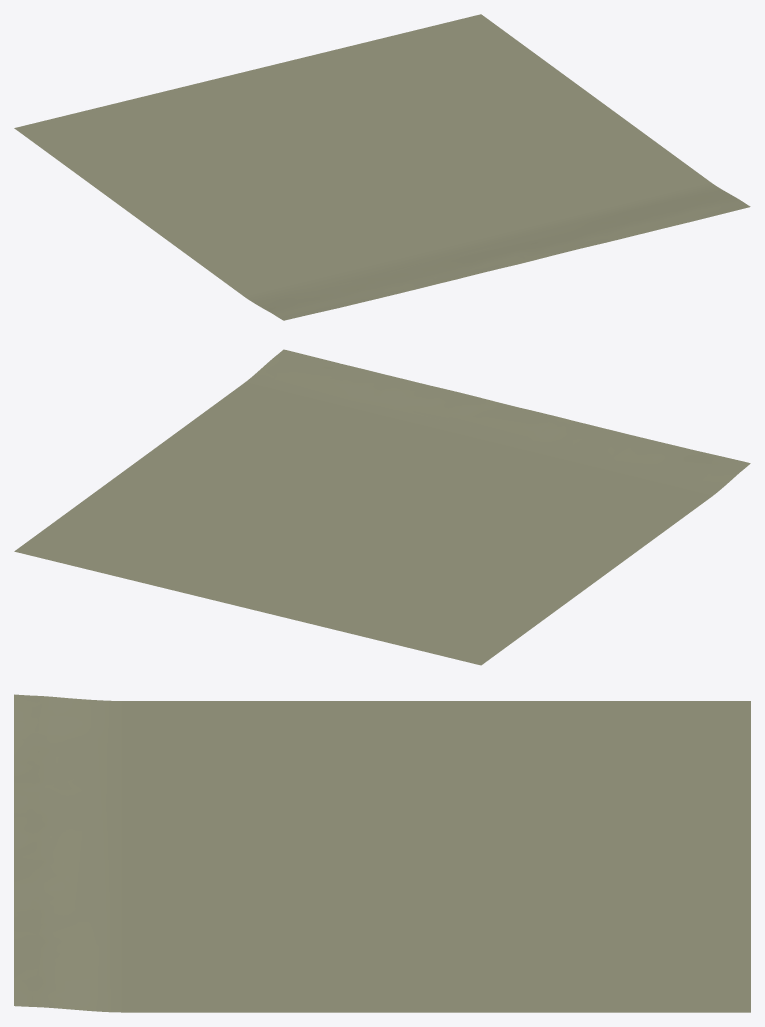
File: SM_VB_CityTerrain_6_5.fbx
3 views of the same model, one above another, from view 1: azimuth 30°, elevation 25°; view 2: azimuth 150°, elevation 25°; view 3: azimuth 270°, elevation 25° (orthographic). The views are drawn at different scales.
Visible parts, largest first — view 1: SM_VB_CityTerrain_6_5; view 2: SM_VB_CityTerrain_6_5; view 3: SM_VB_CityTerrain_6_5.
Part boxes in pixels (left/top/right/bottom): SM_VB_CityTerrain_6_5: left=14, top=14, right=750, bottom=320; SM_VB_CityTerrain_6_5: left=14, top=349, right=750, bottom=665; SM_VB_CityTerrain_6_5: left=14, top=694, right=750, bottom=1012.
Size of the model in its own units: 600 by 5.93 by 600.
